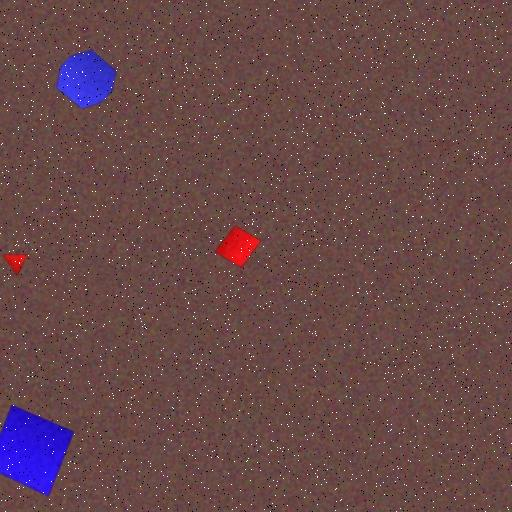BLUE_SQUARE: (0, 404, 75, 498)
RED_SQUARE: (214, 225, 262, 269)
